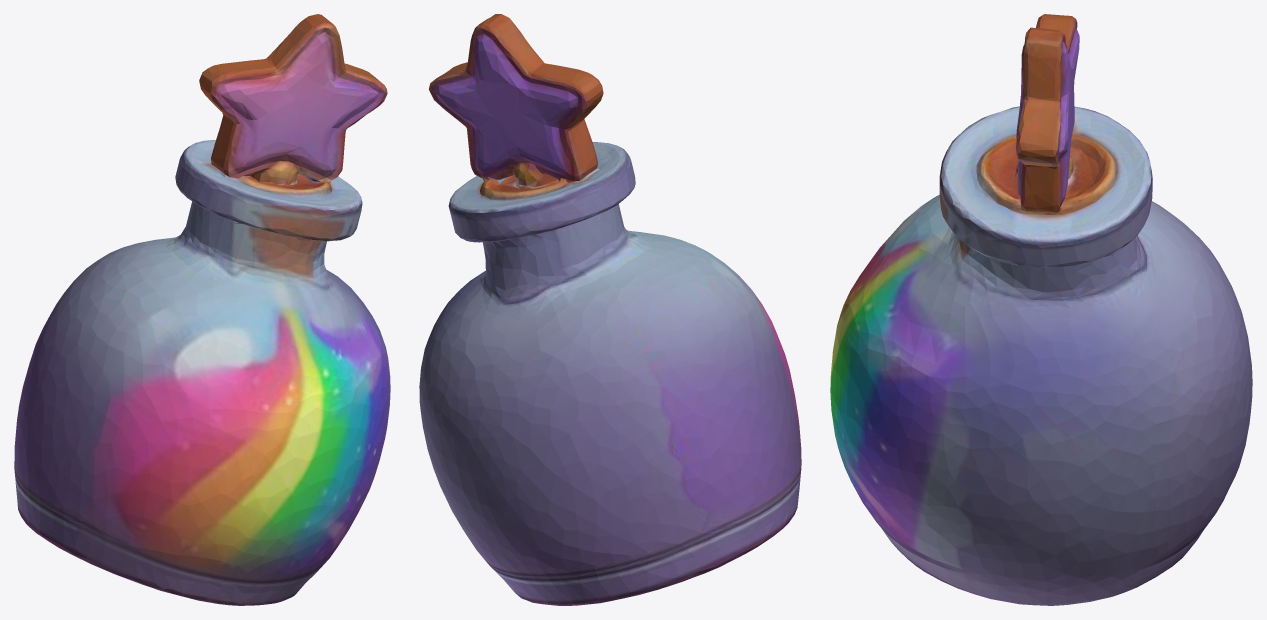
The model's file is cure_all.glb.
3 views of the same model, side by side, from view 1: azimuth 30°, elevation 25°; view 2: azimuth 150°, elevation 25°; view 3: azimuth 270°, elevation 25° (orthographic). The views are drawn at different scales.
Visible parts, largest first — view 1: tmpf582axlr.ply; view 2: tmpf582axlr.ply; view 3: tmpf582axlr.ply.
Part boxes in pixels (box(x1,y1,x2,y2)): tmpf582axlr.ply: box(14, 14, 390, 605); tmpf582axlr.ply: box(419, 14, 801, 605); tmpf582axlr.ply: box(830, 14, 1252, 605).
Size of the model in its own units: 1.34 by 1.98 by 1.27.
1 material, 1 textured.
